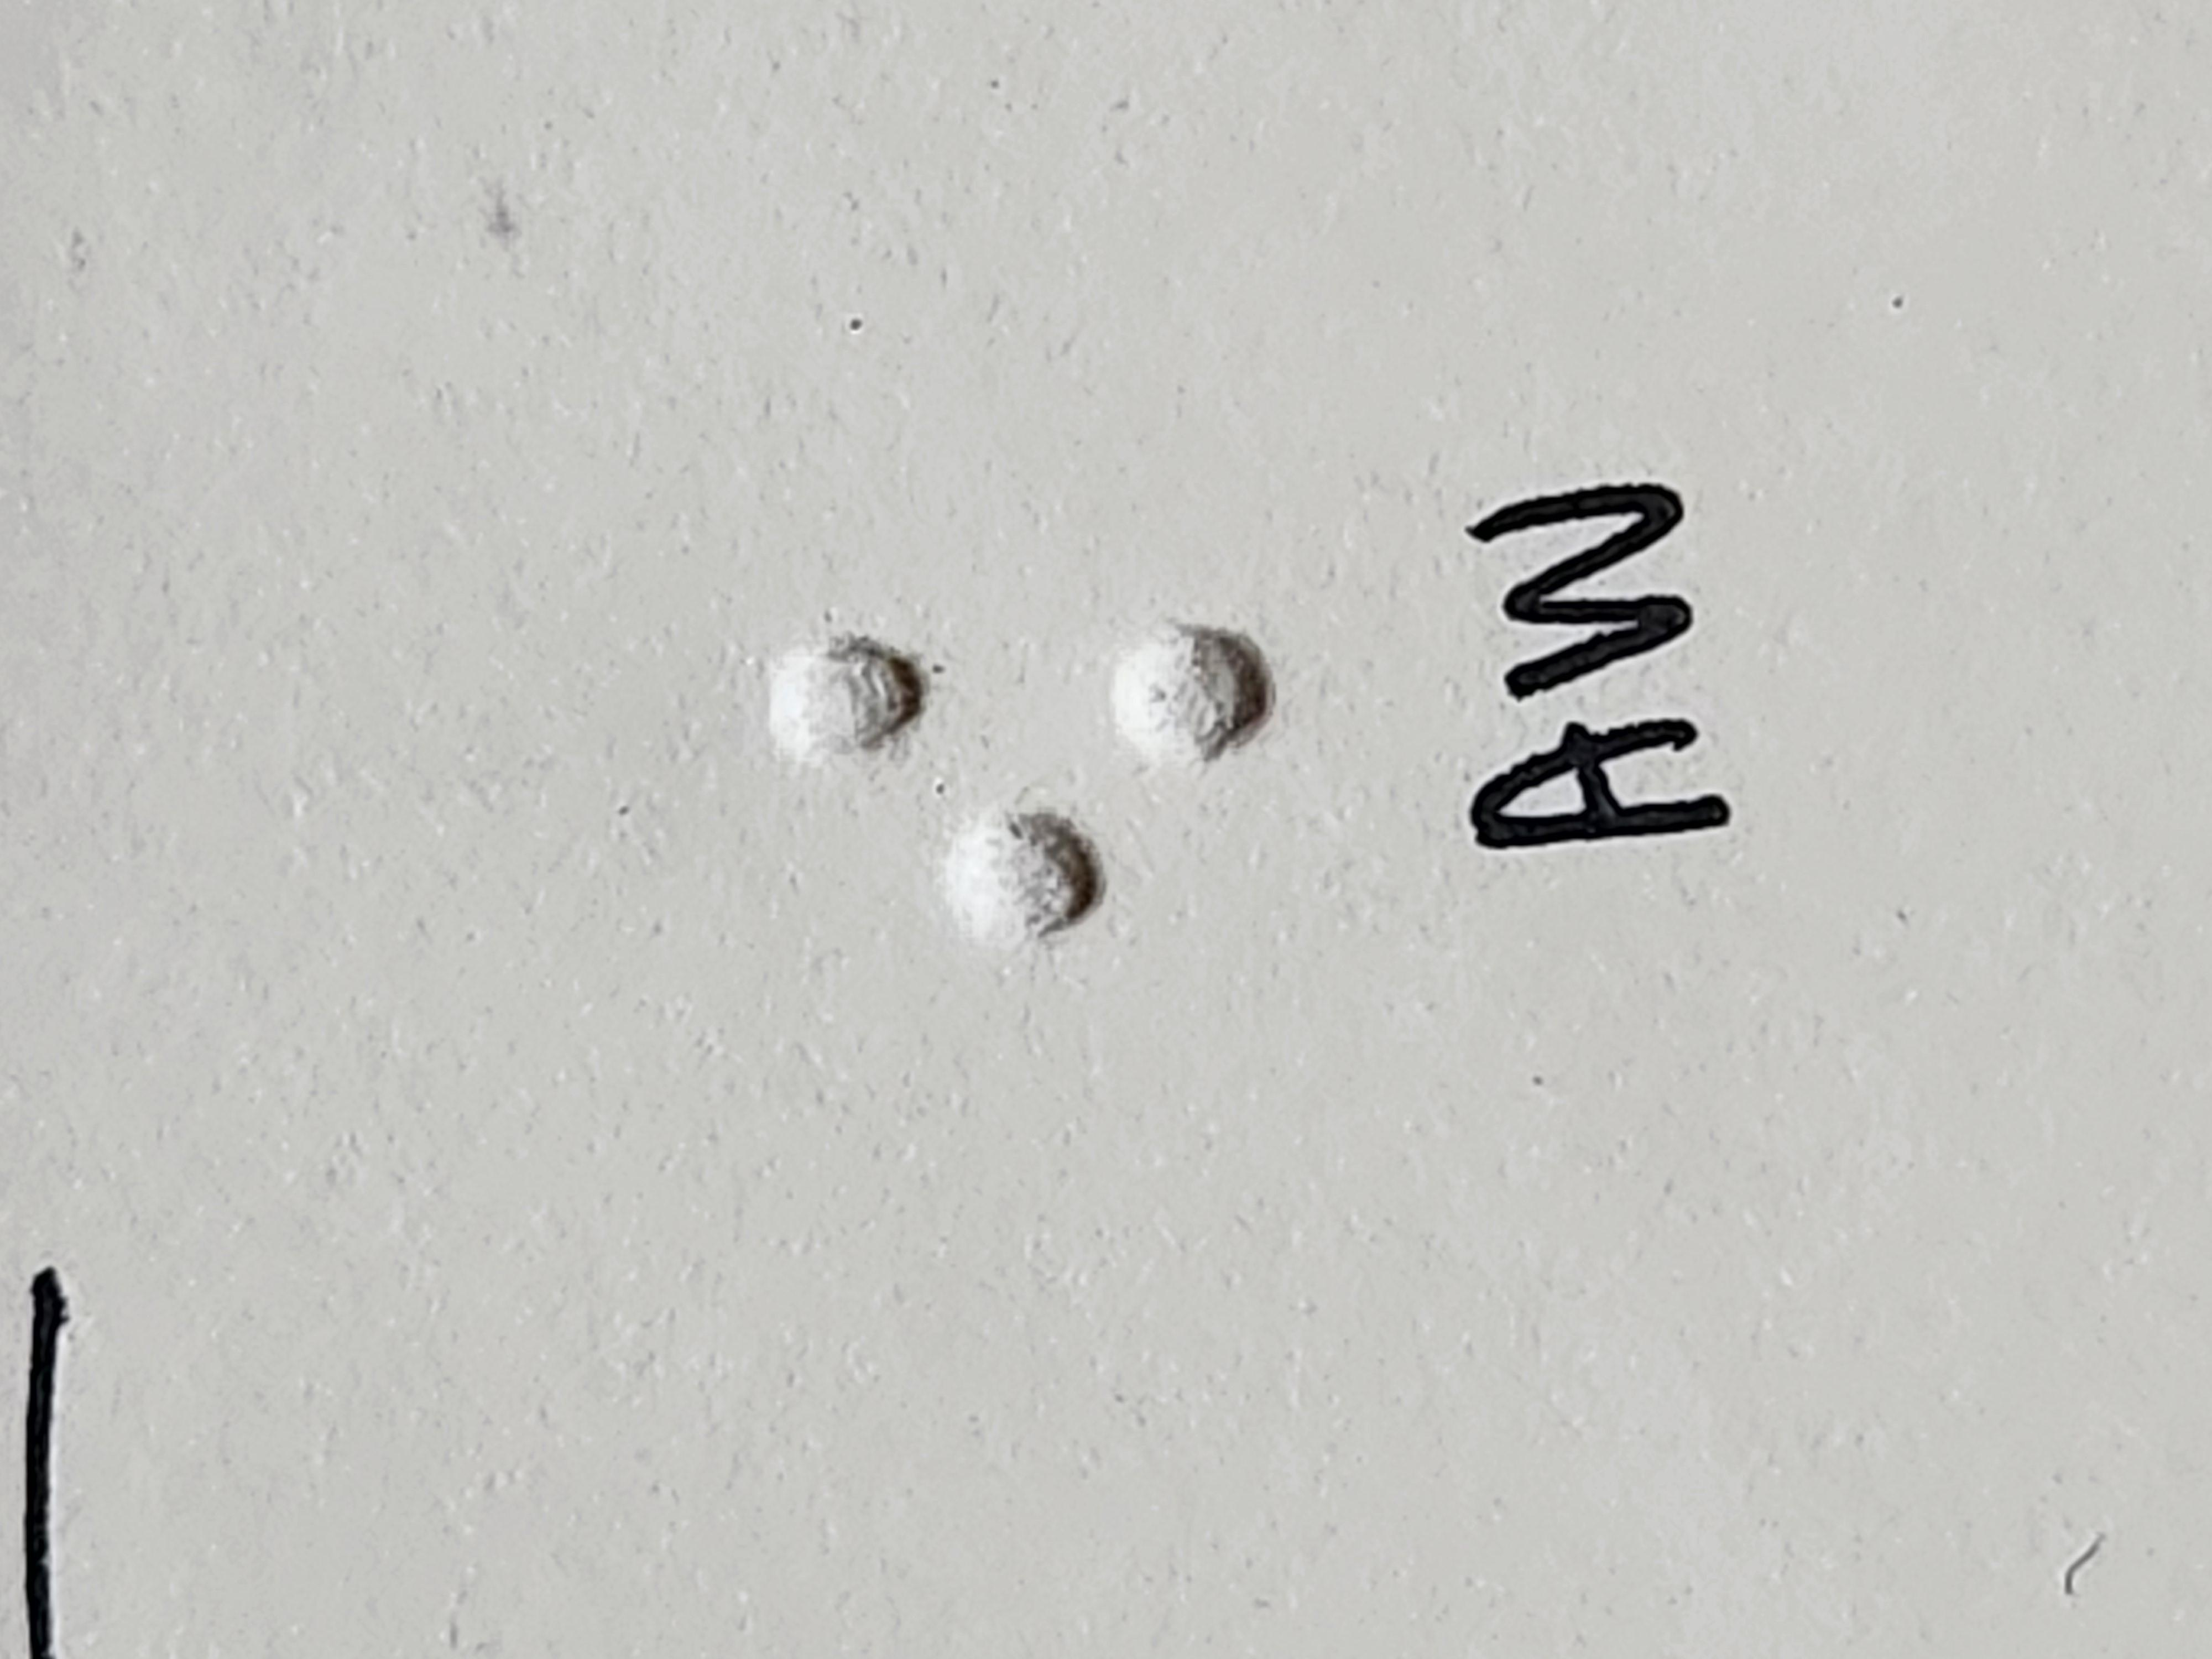one_cell_part_word_aw: (967, 565, 1381, 951)
